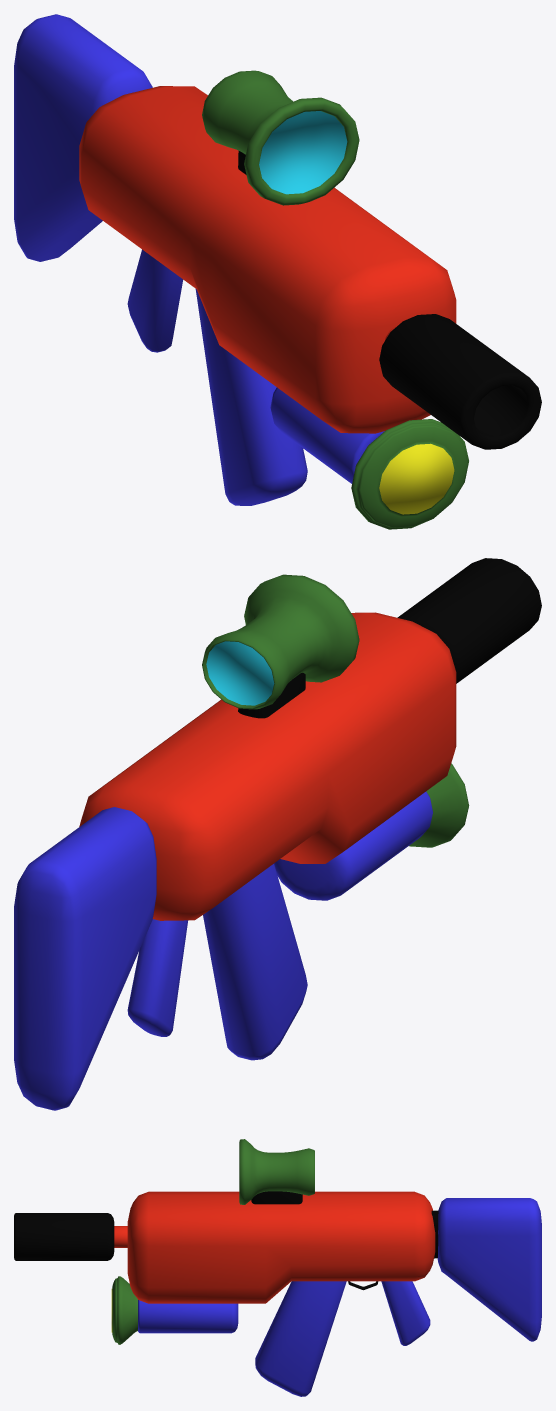
Rendered from AssaultRifle.fbx.
3 renders of one model, top to bottom at view 1: azimuth 30°, elevation 25°; view 2: azimuth 150°, elevation 25°; view 3: azimuth 270°, elevation 25°, orthographic. The views are drawn at different scales.
Visible parts, largest first — view 1: AssaultRifle; view 2: AssaultRifle; view 3: AssaultRifle.
Part boxes in pixels (box(x1,y1,x2,y2)): AssaultRifle: box(14, 14, 541, 529); AssaultRifle: box(14, 558, 541, 1110); AssaultRifle: box(14, 1139, 541, 1396).
Bounding box in the file's own units: 19.35 × 58.84 × 112.
